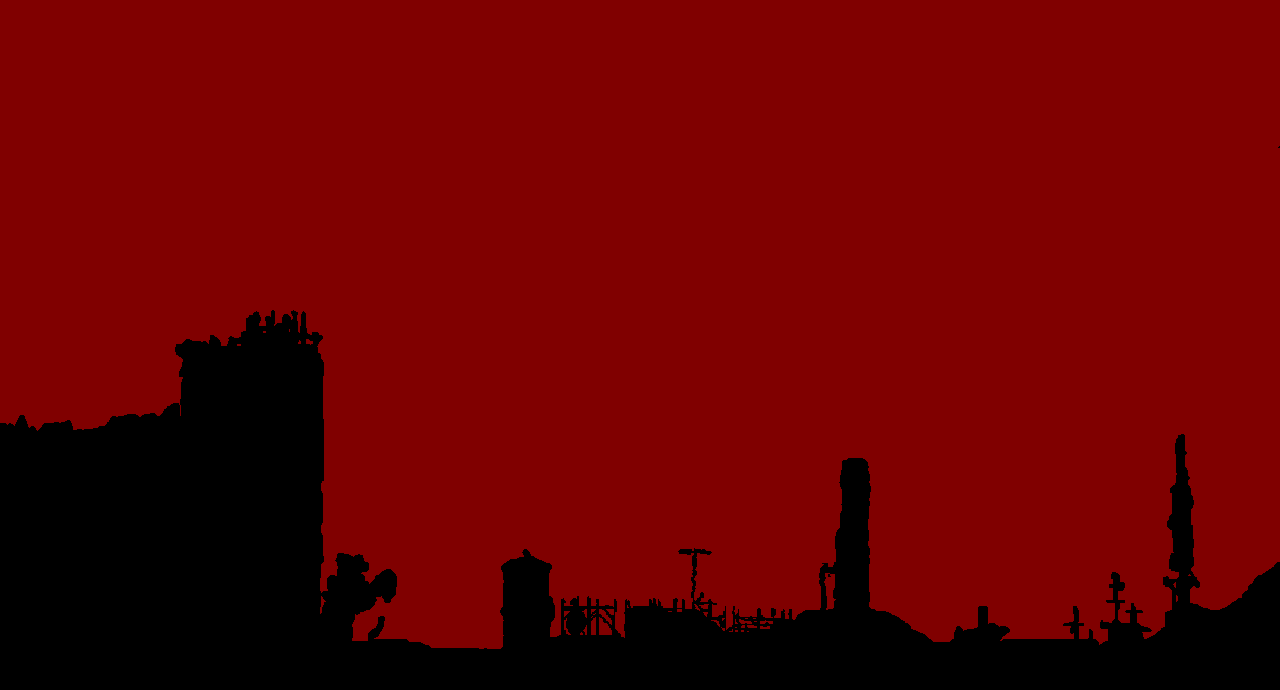Sky: (1, 1, 1279, 689)
